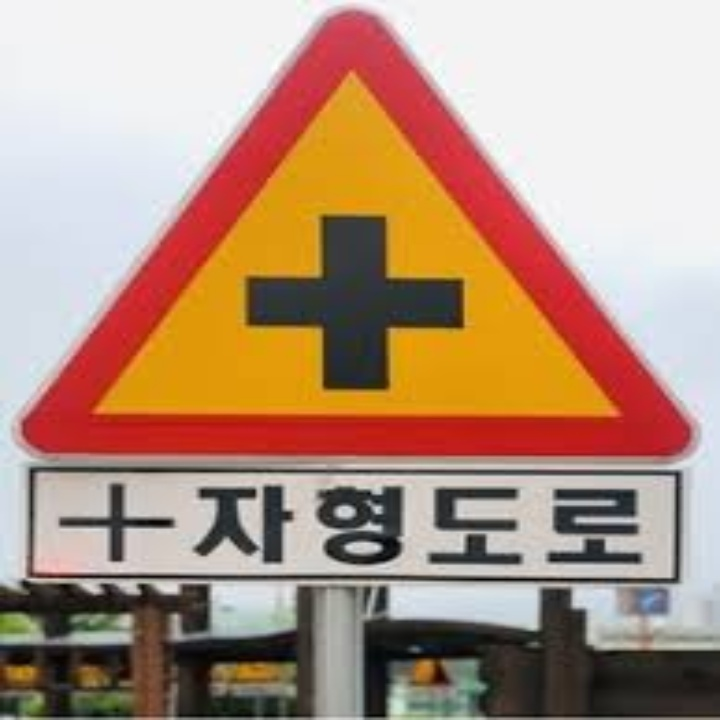inter: (240, 207, 471, 394)
